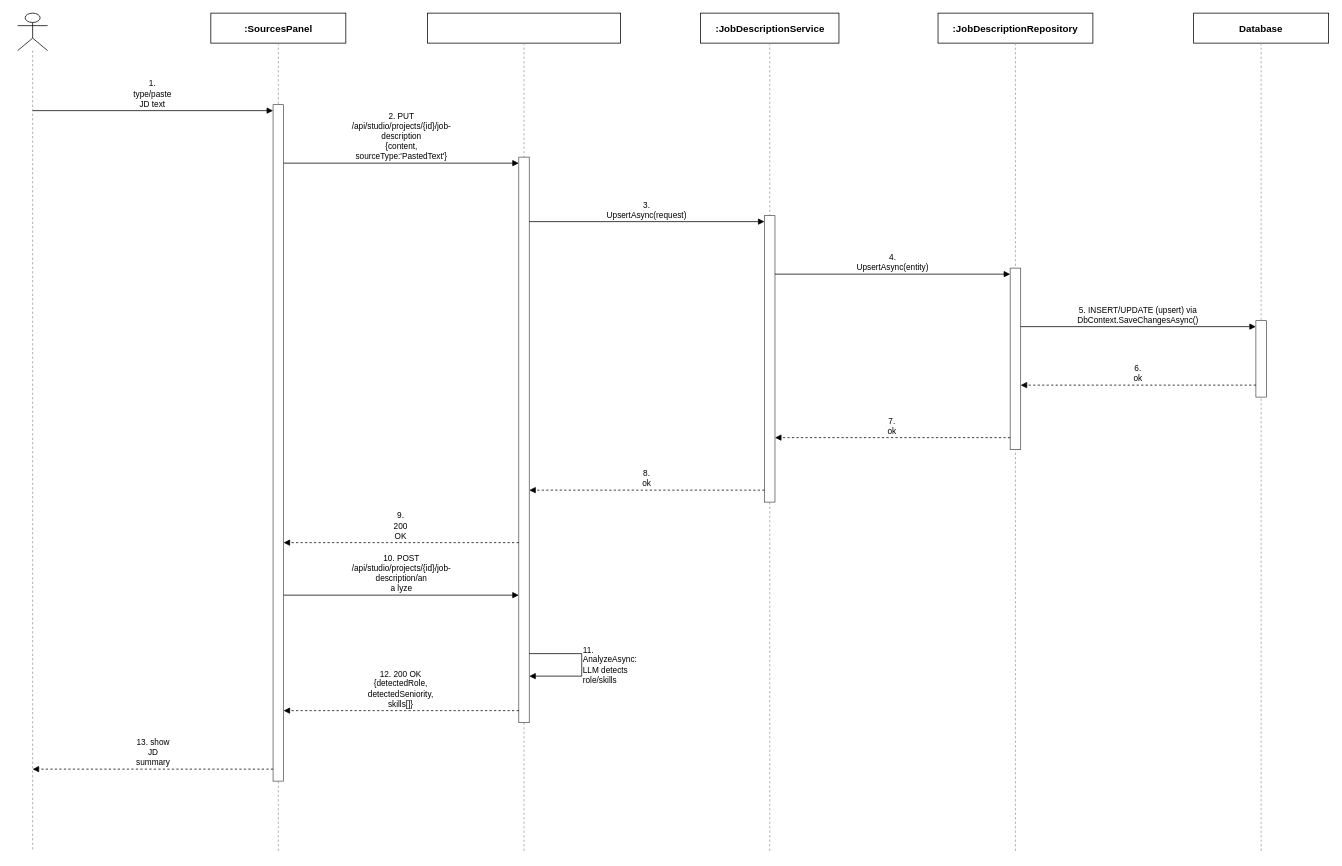
Image size: 1342x866. Some labels were removed from this diagram. Here are the shapes that lost their labels. From the top down, the centre of each, then its label:
At (x=32, y=31): "HR Manager".
At (x=524, y=27): ":StudioJobDescriptionsController".
